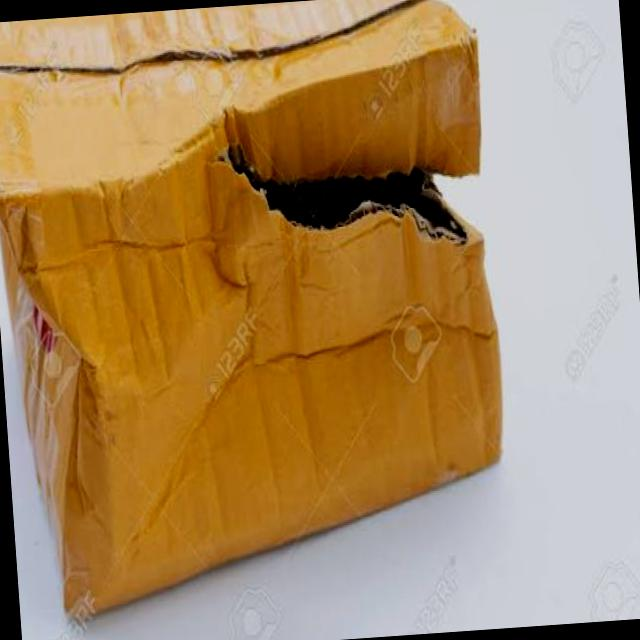package_damage: (195, 19, 515, 300), (0, 190, 148, 627)
